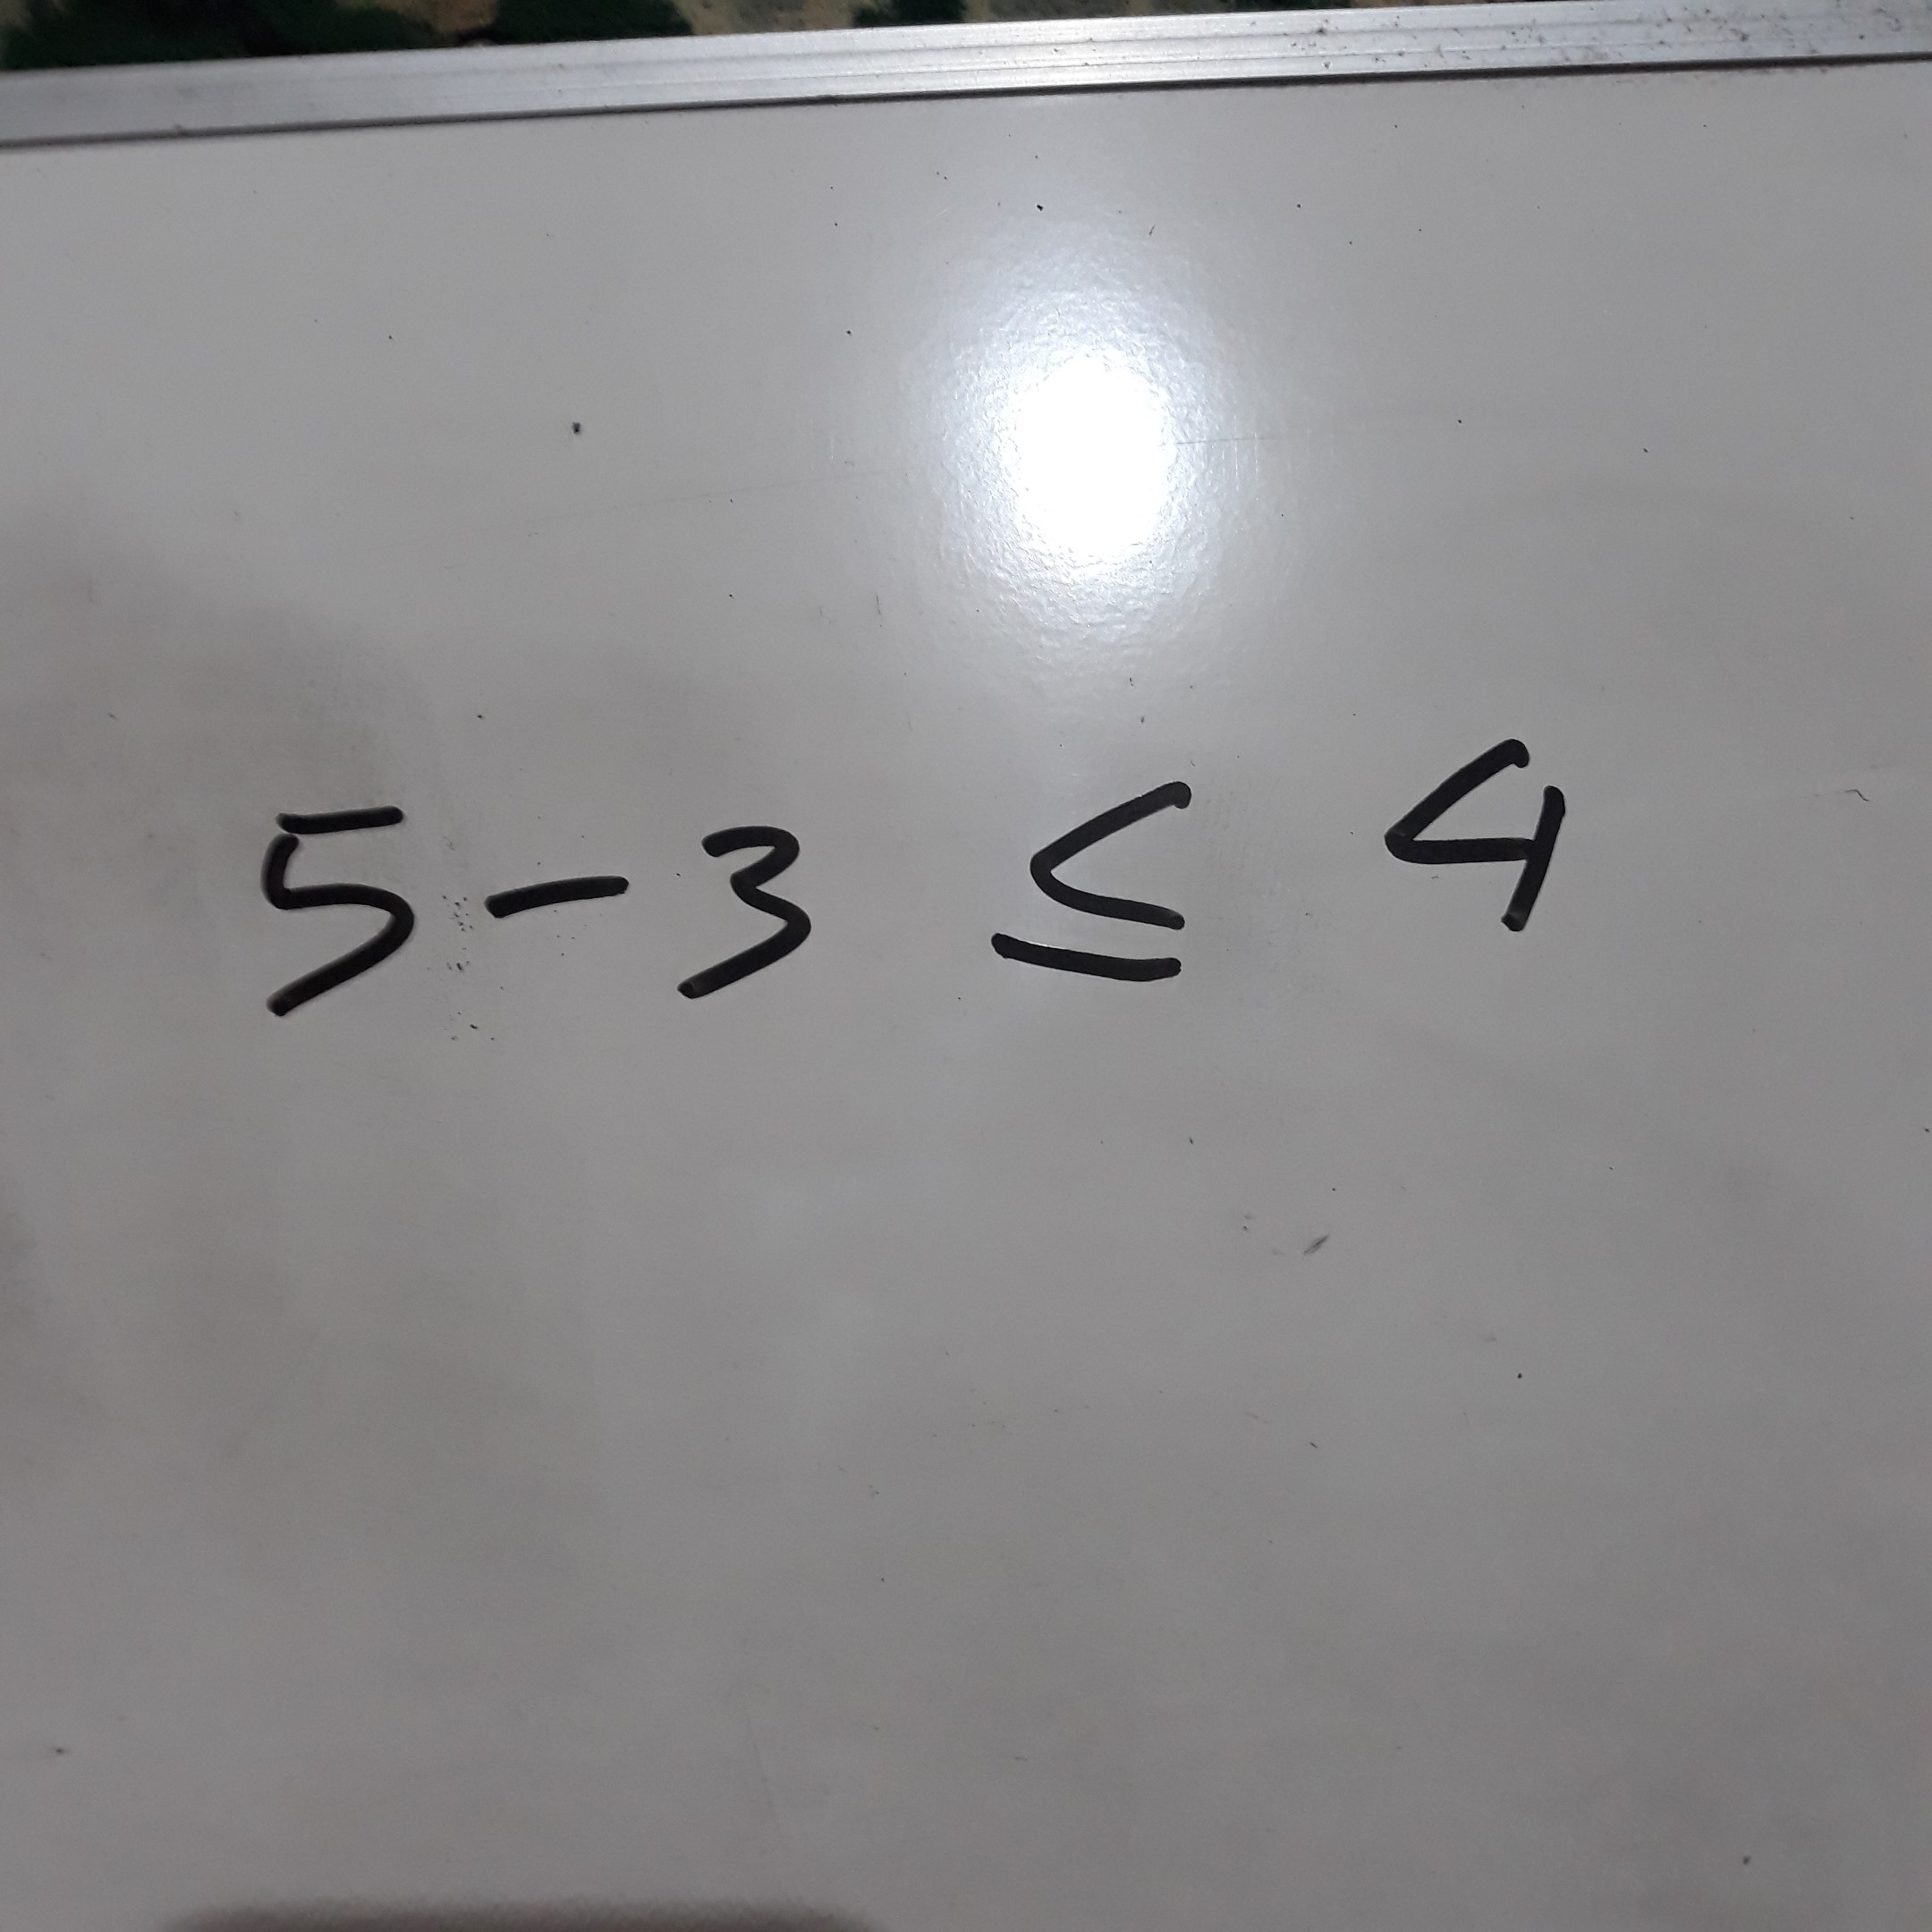lessthan-equal: (963, 724, 1254, 1014)
min: (465, 856, 650, 933)
num3: (666, 787, 827, 1022)
num4: (1351, 678, 1641, 968)
num5: (230, 791, 445, 1045)
